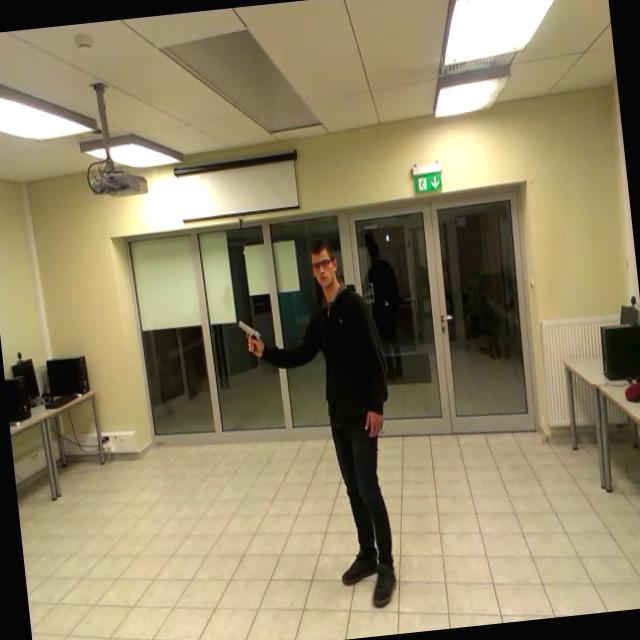handgun: (227, 306, 276, 376)
